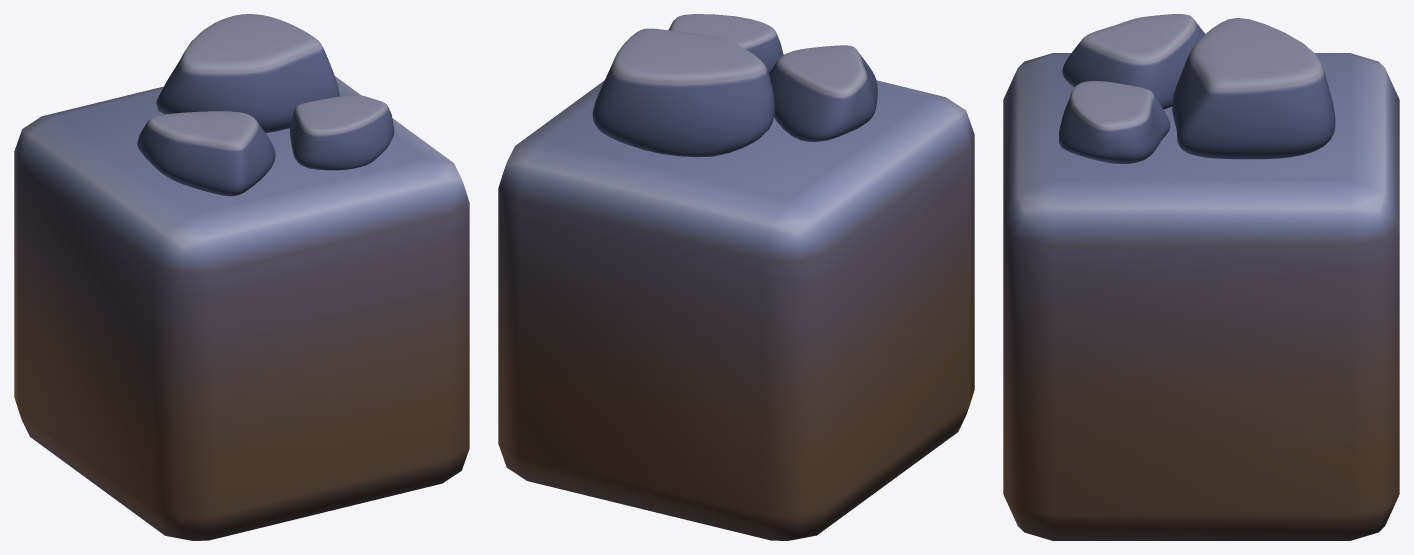
File: rock_block_1.fbx
3 views of the same model, side by side, from view 1: azimuth 30°, elevation 25°; view 2: azimuth 150°, elevation 25°; view 3: azimuth 270°, elevation 25° (orthographic). The views are drawn at different scales.
Visible parts, largest first — view 1: block_rock_1; view 2: block_rock_1; view 3: block_rock_1.
Part boxes in pixels (bbox=[...]): block_rock_1: bbox=[14, 14, 469, 540]; block_rock_1: bbox=[498, 14, 974, 540]; block_rock_1: bbox=[1003, 14, 1399, 540].
Bounding box in the file's own units: 200 × 245 × 200.
